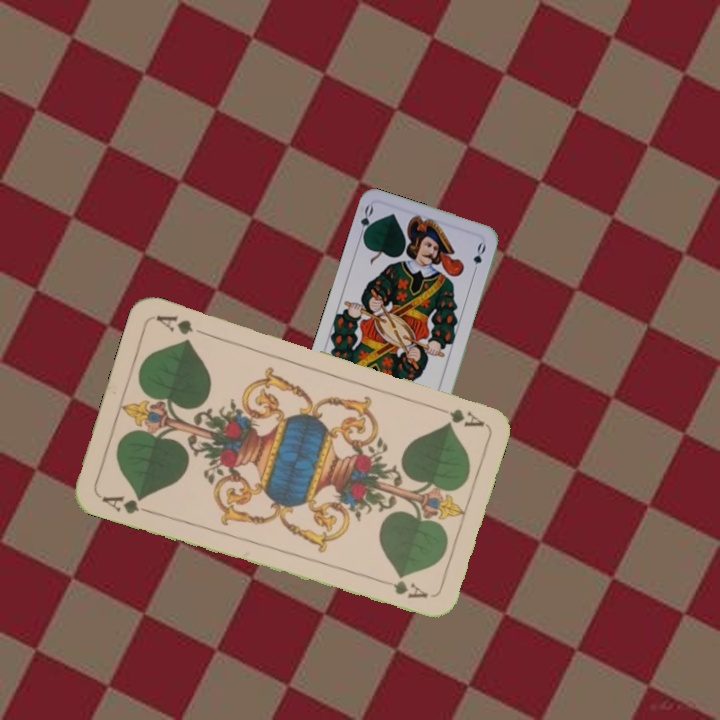GA: (429, 401, 487, 430), (98, 491, 154, 517)
GO: (355, 201, 376, 242)
